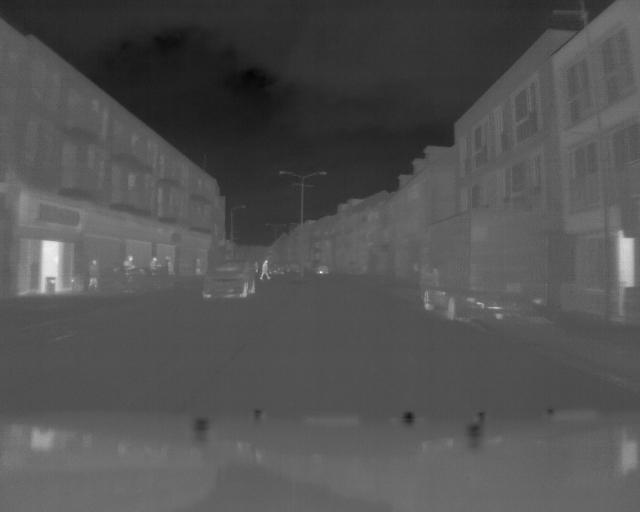car: (411, 238, 536, 330), (199, 258, 259, 300)
person: (87, 255, 99, 289), (260, 256, 270, 283)
